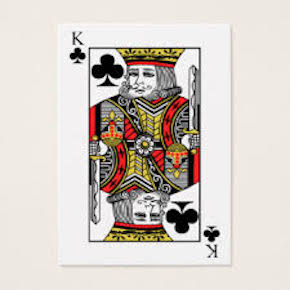KingOfClubs: (60, 24, 231, 265)
